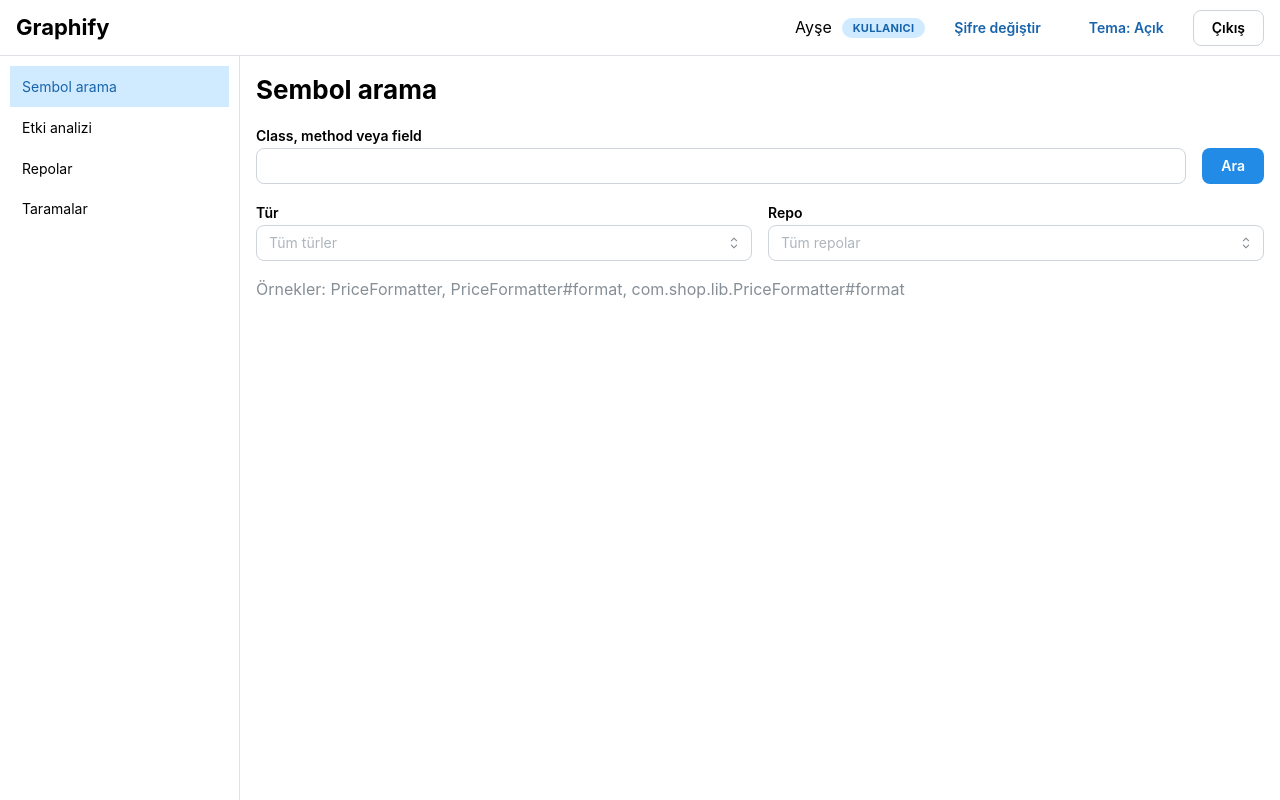
Test: symbol search › searches on submit and keeps the query in the URL
Type "PriceFormatter#format" into the field labelled "Class, method veya field".
click(721, 166); type("PriceFormatter#format")  # box [256, 148, 1186, 184]
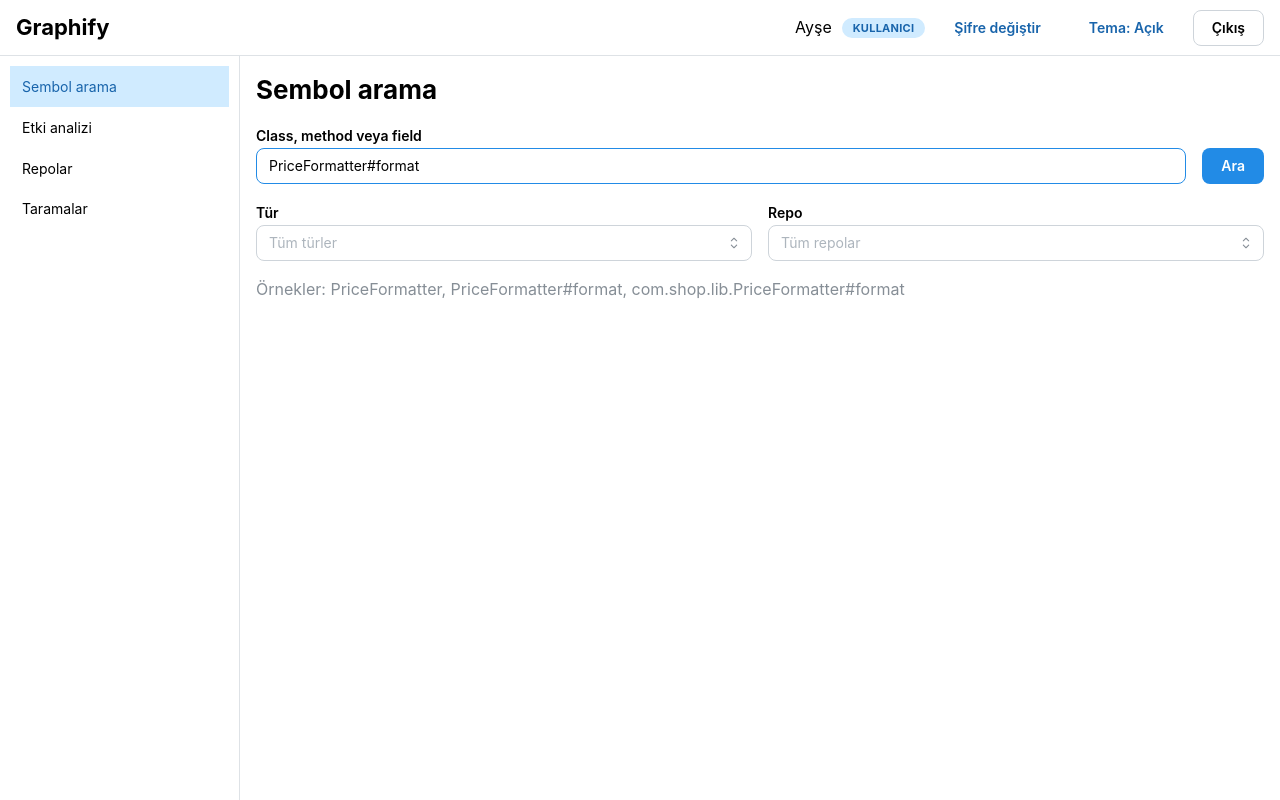
Click the button "Ara".
click(1233, 166)  # box [1202, 148, 1264, 184]
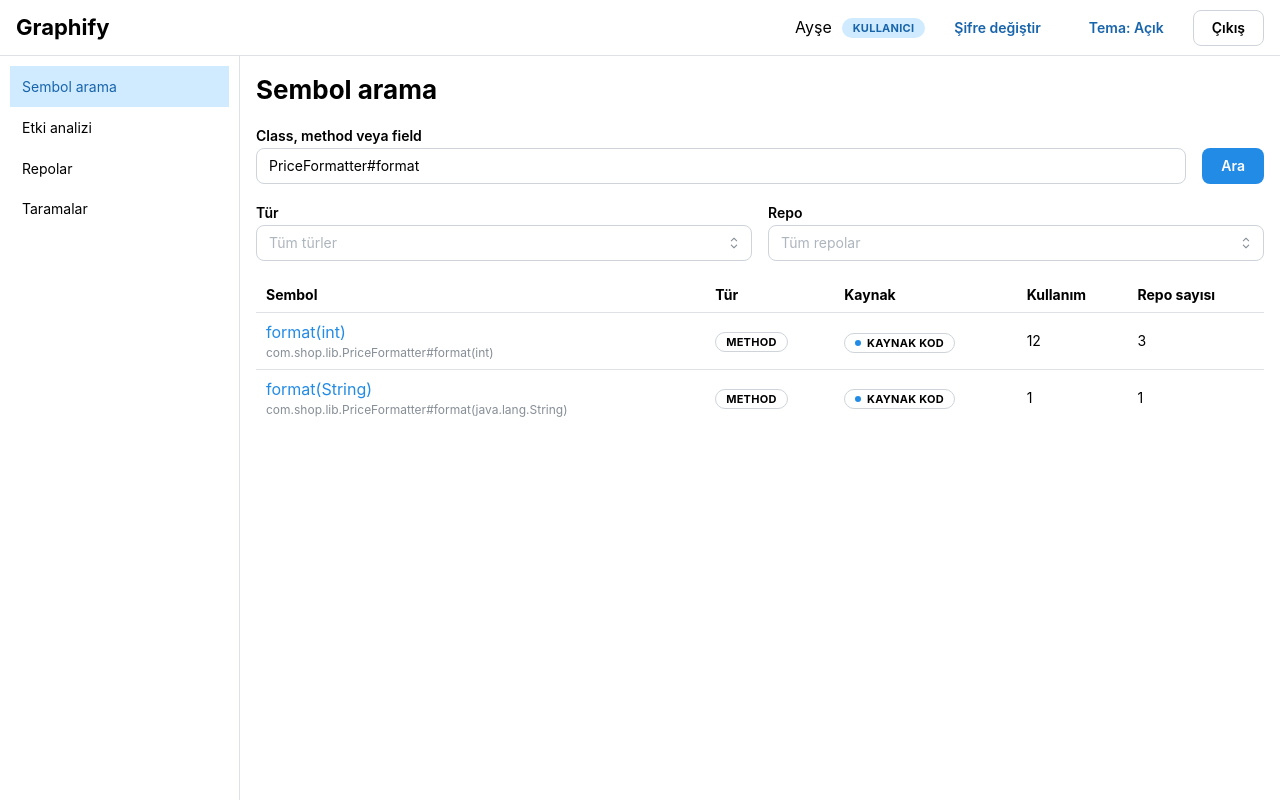
Result: the link "format(int)" is shown at [266, 322, 346, 342]
